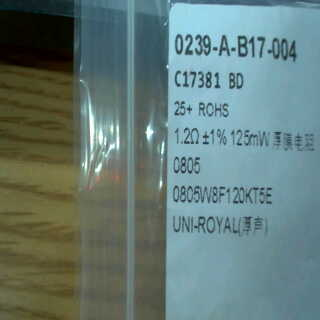1.2R: (169, 124, 201, 178)
